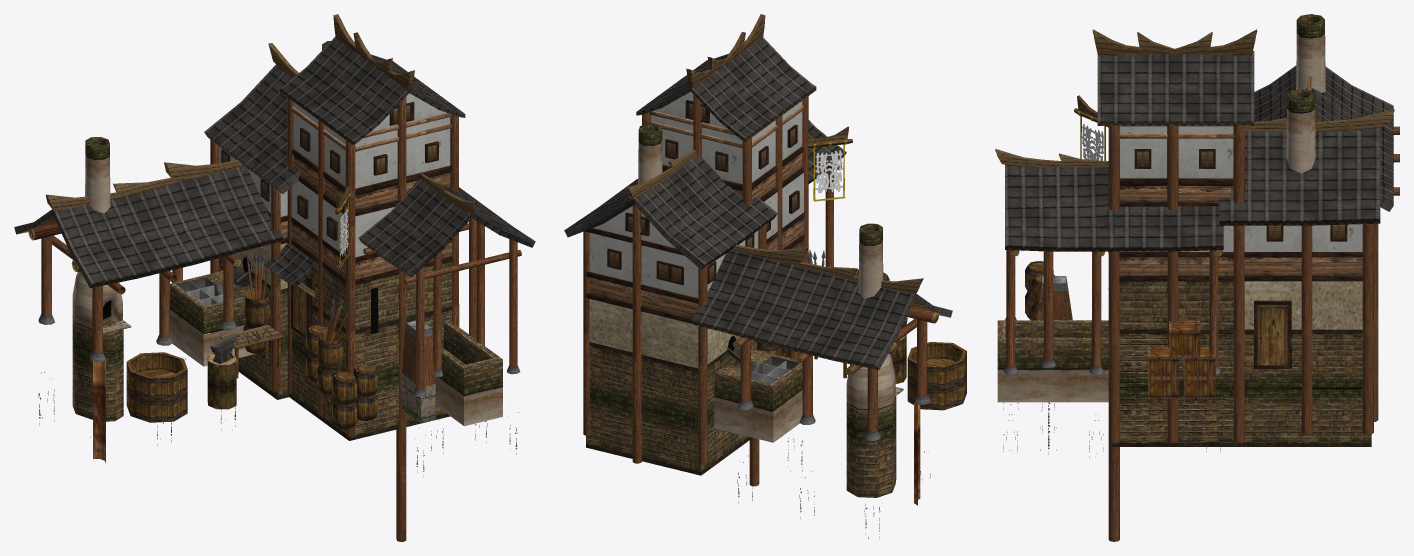
The model's file is han_forge.dae.
3 views of the same model, side by side, from view 1: azimuth 30°, elevation 25°; view 2: azimuth 150°, elevation 25°; view 3: azimuth 270°, elevation 25° (orthographic). The views are drawn at different scales.
Parts seen in each view (by area): view 1: han_forge; view 2: han_forge; view 3: han_forge.
Boxes of the visible parts, x1,y1,x2,y2 form: han_forge: [14, 14, 535, 541]; han_forge: [564, 14, 966, 538]; han_forge: [995, 14, 1399, 541].
Bounding box in the file's own units: 22.95 × 21.62 × 30.05.
